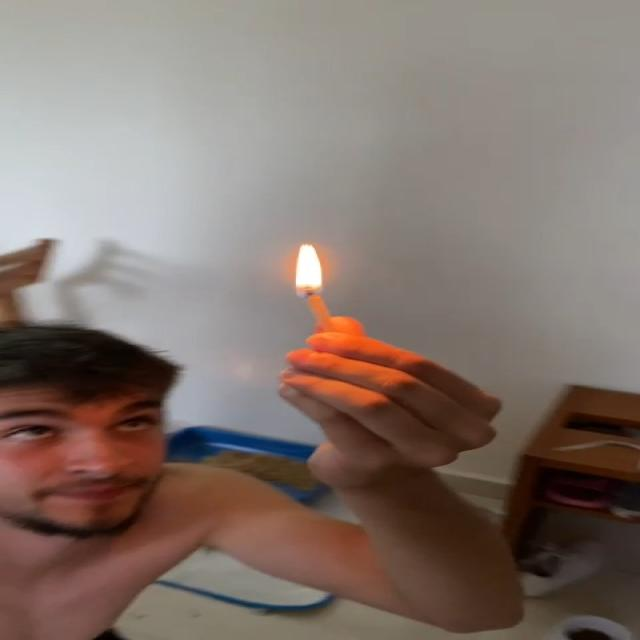fogo-ypXI: (294, 242, 323, 300)
